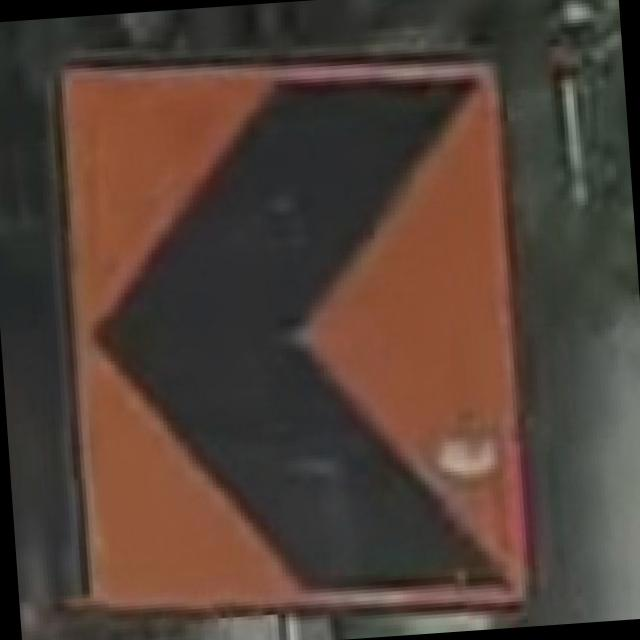curveleft_sign: (29, 24, 545, 640)
